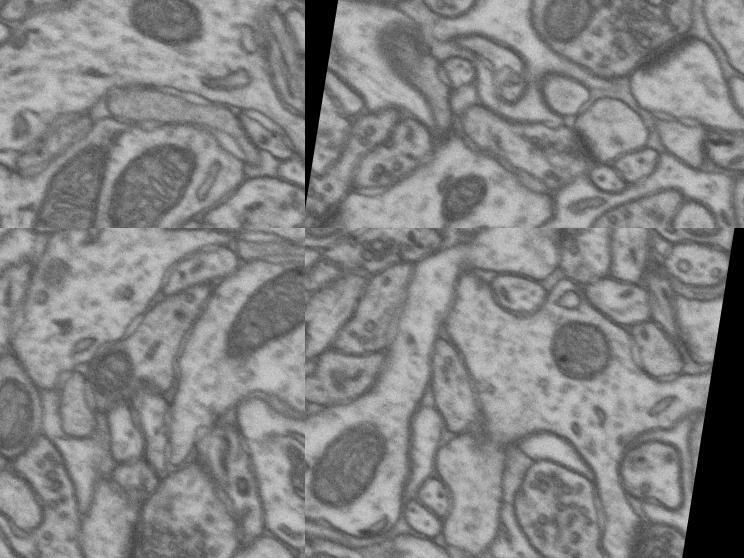mitochondria: (212, 236, 305, 383), (530, 299, 640, 398), (96, 130, 199, 228), (11, 134, 114, 228), (305, 426, 393, 533), (312, 339, 379, 418), (124, 0, 212, 55), (80, 340, 144, 406), (0, 365, 42, 461), (422, 175, 490, 228), (543, 0, 624, 38), (145, 228, 255, 246), (667, 228, 736, 256)
